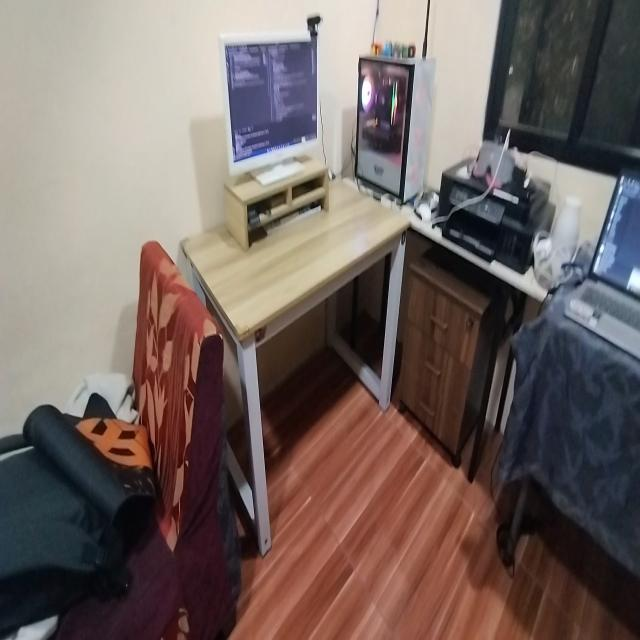table: (189, 174, 418, 501)
